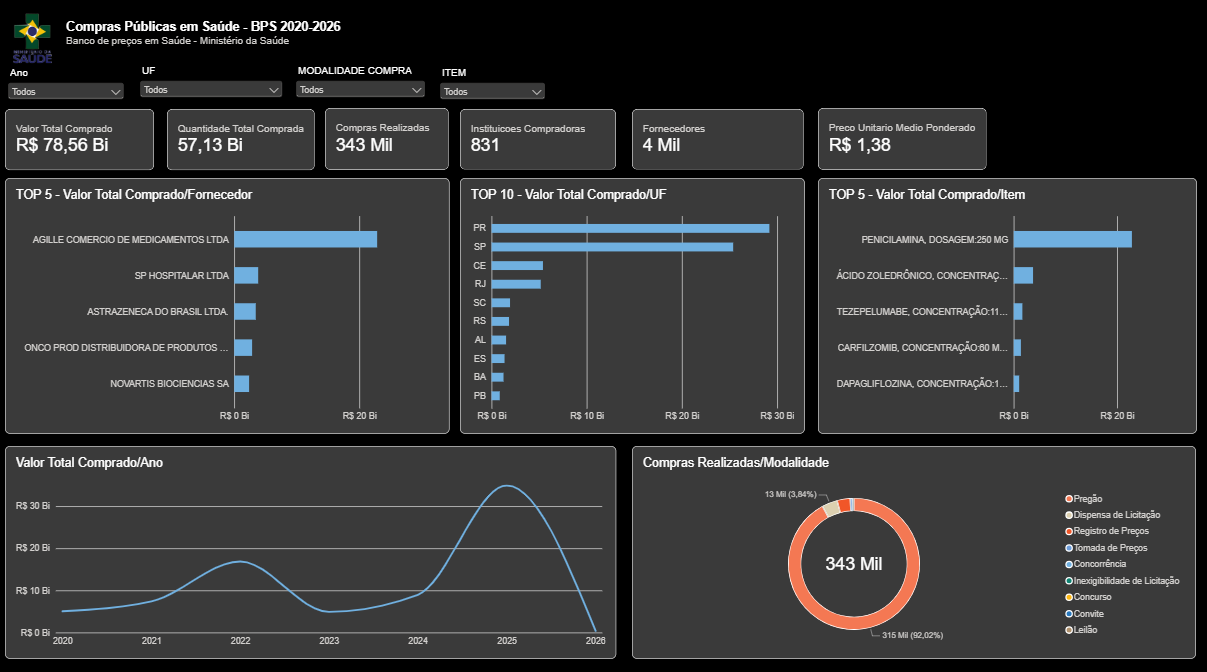

Layout of this report page (visuals, bound fields, positions):
{"tool":"powerbi","page":{"name":"DASHBOARD","canvas":[1920,1080],"ordinal":0},"visuals":[{"type":"cardVisual","fields":{"Data":["MEDIDAS.Valor Total Comprado"]},"box":[7.3,174.2,236.6,97.2],"z":0},{"type":"cardVisual","fields":{"Data":["MEDIDAS.Quantidade Total Comprada"]},"box":[264.1,174.2,234.7,97.8],"z":1000},{"type":"cardVisual","fields":{"Data":["MEDIDAS.Quantidade de Compras Realizadas"]},"box":[515.3,172.4,196.4,98.2],"z":2000},{"type":"cardVisual","fields":{"Data":["MEDIDAS.Quantidade de Instituicoes Compradoras"]},"box":[728,174.2,247,96.6],"z":3000},{"type":"cardVisual","fields":{"Data":["MEDIDAS.Quantidade de Fornecedores"]},"box":[1001.3,174.2,272.4,96.6],"z":4000},{"type":"cardVisual","fields":{"Data":["MEDIDAS.Preco Unitario Medio Ponderado"]},"box":[1294.7,172.4,267.6,98.2],"z":5000},{"type":"image","box":[7.3,0,86.8,124.7],"z":7000},{"type":"slicer","fields":{"Values":["Calendario.Ano"]},"box":[7.3,107.6,193.2,63.6],"z":7001},{"type":"slicer","fields":{"Values":["BPS_20_26_LourencoFLemos.uf"]},"box":[217.6,105.1,234.7,66],"z":7002},{"type":"slicer","fields":{"Values":["BPS_20_26_LourencoFLemos.modalidade_compra"]},"box":[464.6,105.1,213.9,66],"z":7003},{"type":"aiNarratives","title":"Compras Públicas em Saúde - BPS 2020-2026","box":[89.2,18.3,470.7,63.6],"z":7004},{"type":"lineChart","title":"Valor Total Comprado/Ano","fields":{"Category":["Calendario.Date.Variation.Hierarquia de datas.Ano"],"Y":["MEDIDAS.Valor Total Comprado"]},"box":[7.3,707.9,968.3,337.4],"z":7005},{"type":"barChart","title":"TOP 10 - Valor Total Comprado/UF","fields":{"Category":["BPS_20_26_LourencoFLemos.uf"],"Y":["MEDIDAS.Valor Total Comprado"]},"box":[728,284.2,546.3,405.4],"z":7006},{"type":"barChart","title":"TOP 5 - Valor Total Comprado/Item","fields":{"Category":["BPS_20_26_LourencoFLemos.descricao_catmat"],"Y":["MEDIDAS.Valor Total Comprado"]},"box":[1294.7,284.2,599.7,405.3],"z":7007},{"type":"slicer","fields":{"Values":["BPS_20_26_LourencoFLemos.descricao_catmat"]},"box":[692,107.3,176,66.5],"z":7008},{"type":"barChart","title":"TOP 5 - Valor Total Comprado/Fornecedor","fields":{"Category":["BPS_20_26_LourencoFLemos.fornecedor"],"Y":["MEDIDAS.Valor Total Comprado"]},"box":[7.3,284.2,704.2,405.3],"z":7009},{"type":"donutChart","title":"Compras Realizadas/Modalidade","fields":{"Category":["BPS_20_26_LourencoFLemos.modalidade_compra"],"Y":["MEDIDAS.Quantidade de Compras Realizadas"]},"box":[1001.3,707.9,893.1,337.4],"z":7010}]}

Visuals, with their boxes in screenshot pixels (x1, y1, x2, y2), scaled from the page's 1920x1080 canvas onto the 1207x672 screenshot:
cardVisual - MEDIDAS.Valor Total Comprado: detection(5, 108, 153, 169)
cardVisual - MEDIDAS.Quantidade Total Comprada: detection(166, 108, 314, 169)
cardVisual - MEDIDAS.Quantidade de Compras Realizadas: detection(324, 107, 447, 168)
cardVisual - MEDIDAS.Quantidade de Instituicoes Compradoras: detection(458, 108, 613, 168)
cardVisual - MEDIDAS.Quantidade de Fornecedores: detection(629, 108, 801, 168)
cardVisual - MEDIDAS.Preco Unitario Medio Ponderado: detection(814, 107, 982, 168)
image: detection(5, 0, 59, 78)
slicer - Calendario.Ano: detection(5, 67, 126, 107)
slicer - BPS_20_26_LourencoFLemos.uf: detection(137, 65, 284, 106)
slicer - BPS_20_26_LourencoFLemos.modalidade_compra: detection(292, 65, 427, 106)
"Compras Públicas em Saúde - BPS 2020-2026" aiNarratives: detection(56, 11, 352, 51)
"Valor Total Comprado/Ano" lineChart: detection(5, 440, 613, 650)
"TOP 10 - Valor Total Comprado/UF" barChart: detection(458, 177, 801, 429)
"TOP 5 - Valor Total Comprado/Item" barChart: detection(814, 177, 1191, 429)
slicer - BPS_20_26_LourencoFLemos.descricao_catmat: detection(435, 67, 546, 108)
"TOP 5 - Valor Total Comprado/Fornecedor" barChart: detection(5, 177, 447, 429)
"Compras Realizadas/Modalidade" donutChart: detection(629, 440, 1191, 650)
